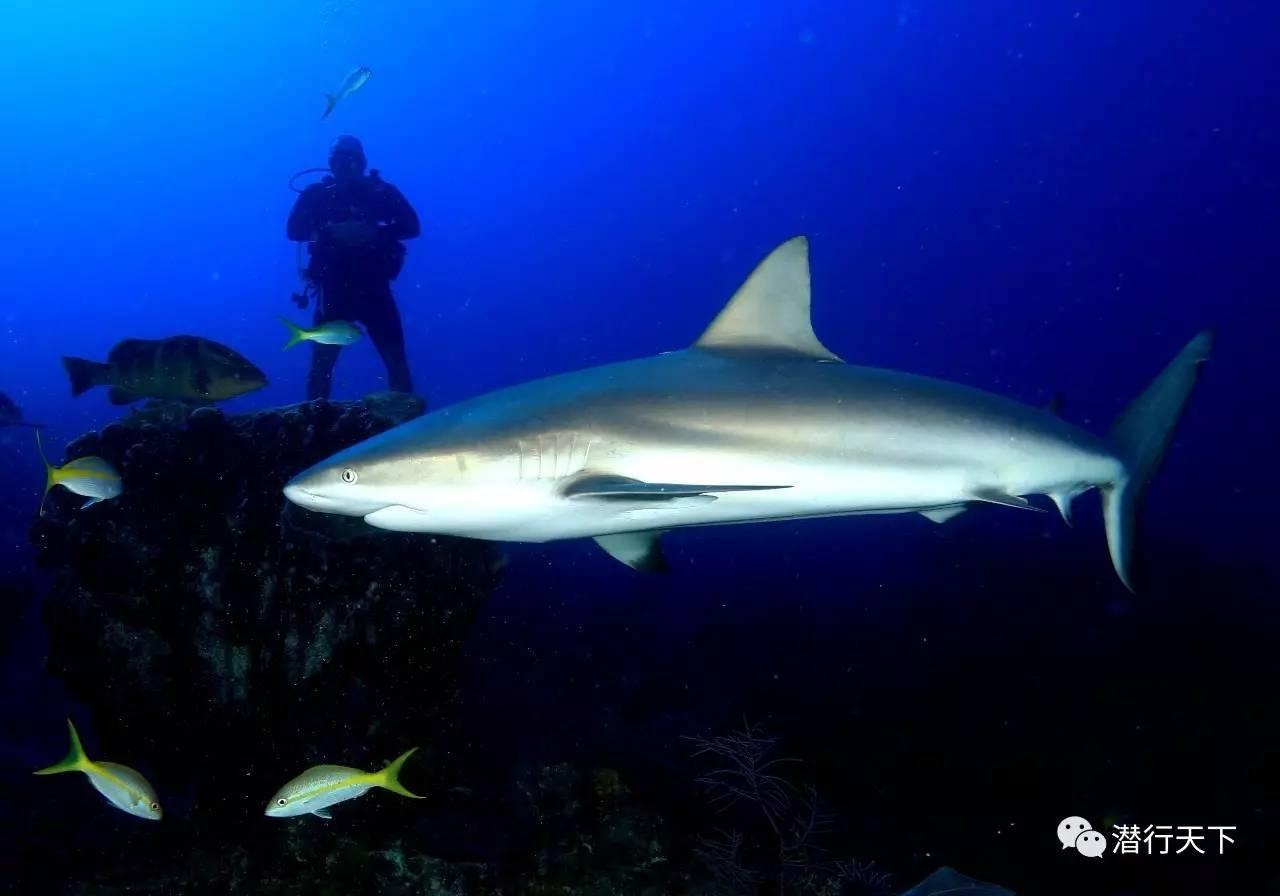fish: (288, 231, 1219, 577)
